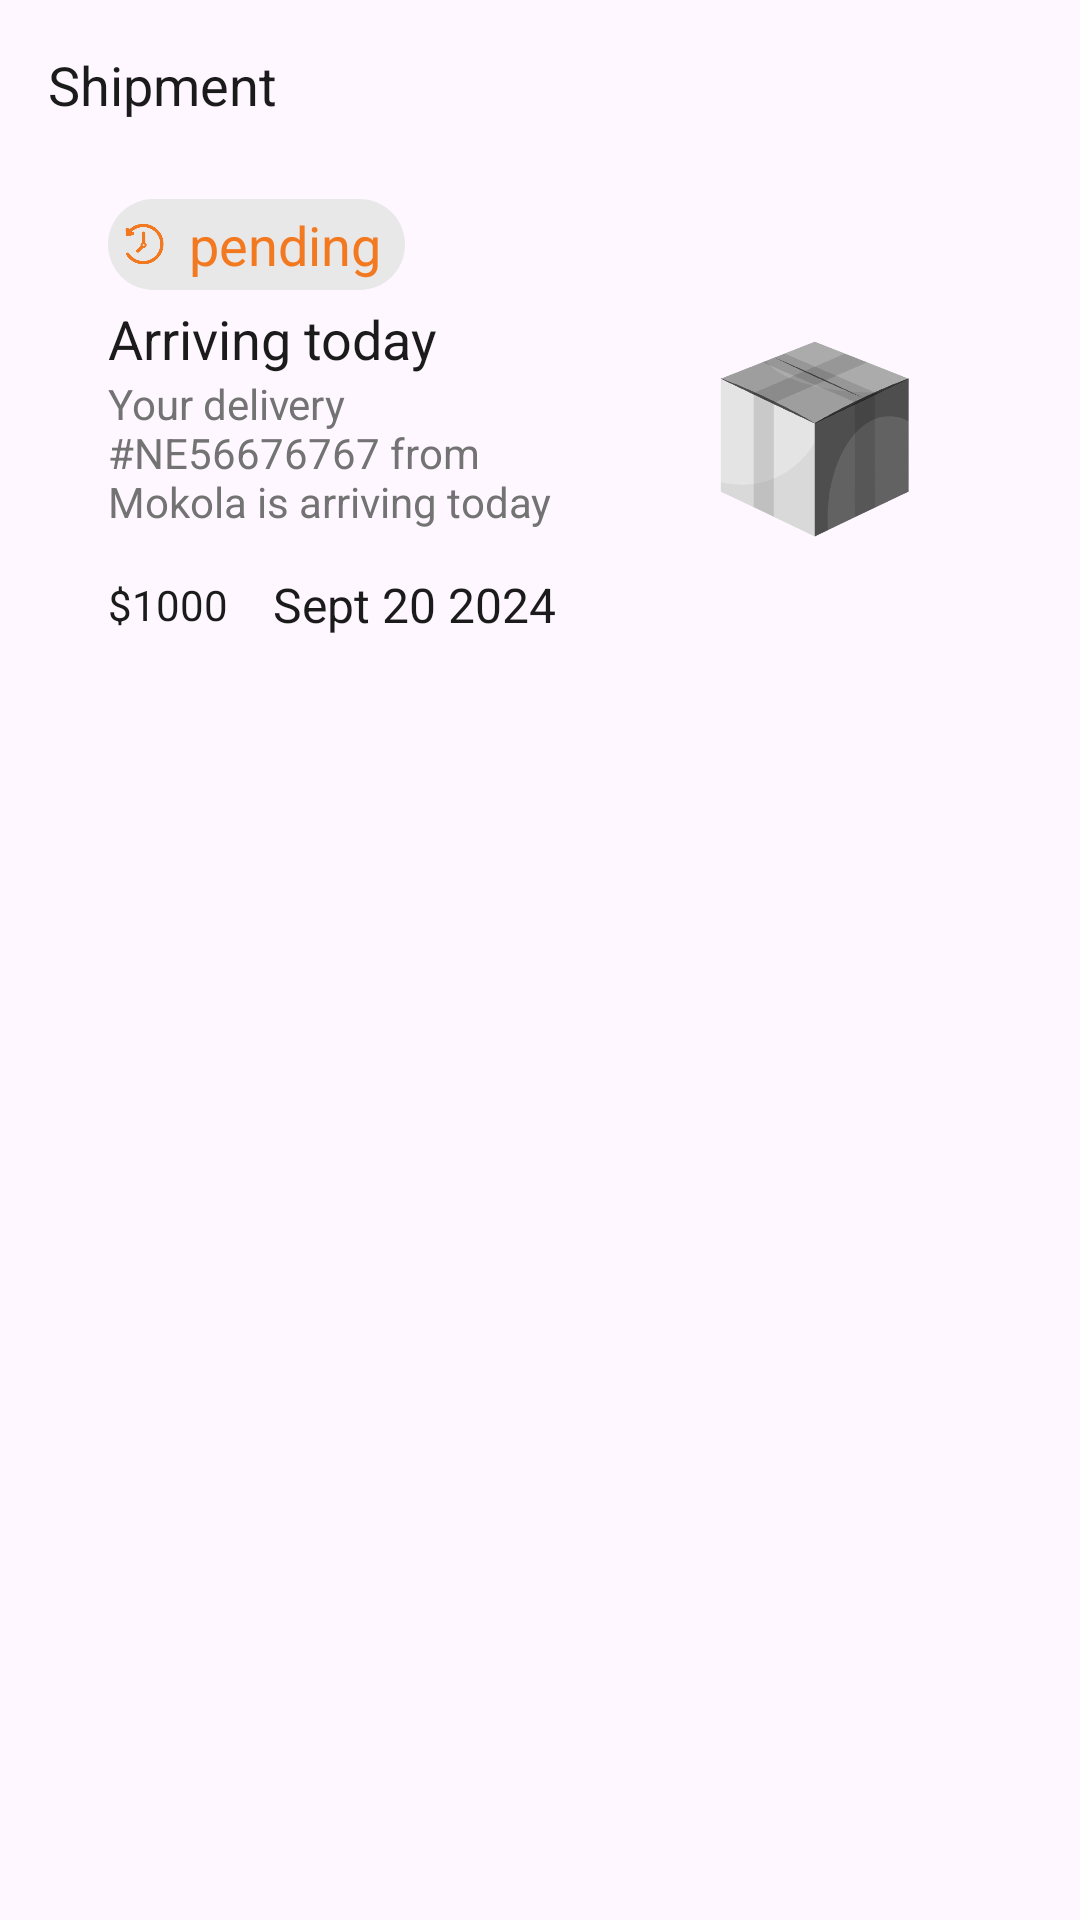

Icons on this 1080px x 1920px Android screen, each with the point to tap as [x,y]:
box: [815,439]
